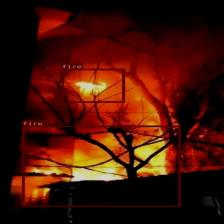fire: (22, 125, 180, 207), (60, 68, 124, 102)
